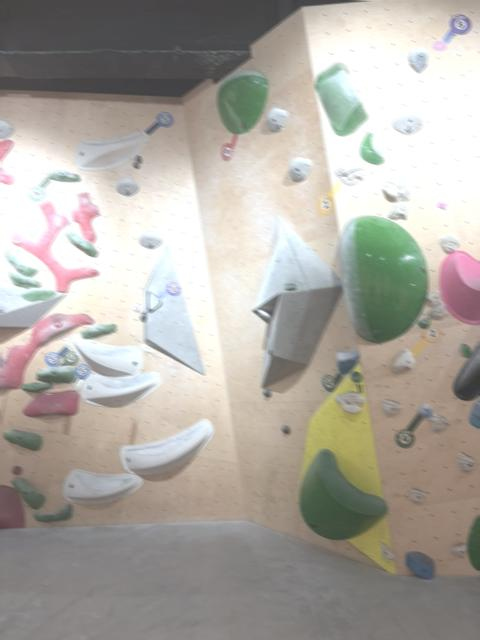crimp: (12, 201, 99, 291), (71, 192, 100, 242), (154, 442, 172, 455), (140, 342, 155, 353), (74, 378, 83, 389), (132, 304, 139, 309), (146, 350, 147, 350)
downhold: (393, 108, 422, 134), (289, 156, 312, 181), (266, 107, 289, 131), (409, 46, 427, 72), (116, 176, 139, 196), (140, 231, 162, 248)
jib: (416, 316, 430, 328), (460, 343, 470, 358), (432, 40, 446, 50), (284, 283, 297, 290), (12, 465, 22, 474), (437, 201, 447, 208), (263, 388, 271, 396), (282, 424, 289, 433)
jug: (405, 551, 435, 578), (335, 161, 365, 185), (36, 365, 76, 383), (334, 391, 365, 412), (383, 176, 409, 201), (336, 349, 359, 374), (392, 348, 415, 372), (381, 398, 403, 416), (429, 412, 449, 431), (428, 300, 447, 319), (458, 451, 476, 471), (439, 235, 460, 252), (388, 201, 406, 219), (425, 290, 441, 306), (409, 487, 426, 501)
ledge: (300, 448, 387, 539), (121, 418, 214, 476), (217, 71, 268, 134), (70, 334, 144, 377), (440, 249, 480, 323), (74, 131, 147, 170), (81, 371, 161, 406), (63, 469, 143, 502), (34, 502, 72, 521), (81, 323, 117, 338)
pinch: (11, 477, 45, 508), (5, 249, 37, 276), (66, 231, 97, 256), (4, 429, 42, 449), (10, 271, 40, 288), (46, 169, 80, 181)
sidepull: (340, 215, 427, 342), (315, 61, 368, 135), (360, 132, 383, 164)
tape: (411, 326, 442, 356), (395, 414, 422, 448), (442, 13, 471, 44), (318, 180, 342, 214), (145, 111, 173, 134), (28, 176, 50, 200), (44, 346, 68, 366), (156, 281, 180, 299), (221, 134, 237, 160), (321, 372, 342, 391), (74, 363, 90, 378), (62, 350, 79, 364)
undercling: (0, 312, 94, 387), (23, 390, 79, 416)
volume: (298, 364, 396, 572), (252, 216, 342, 386), (141, 244, 204, 374), (0, 286, 65, 326)
